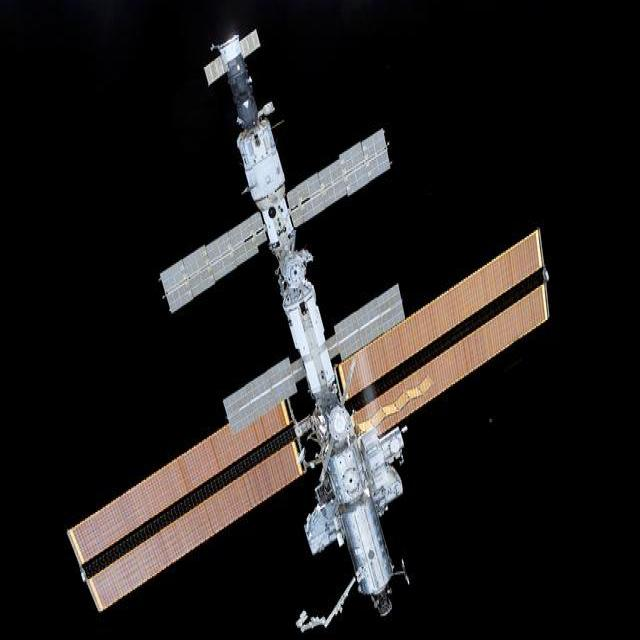satellite: (68, 30, 547, 614)
